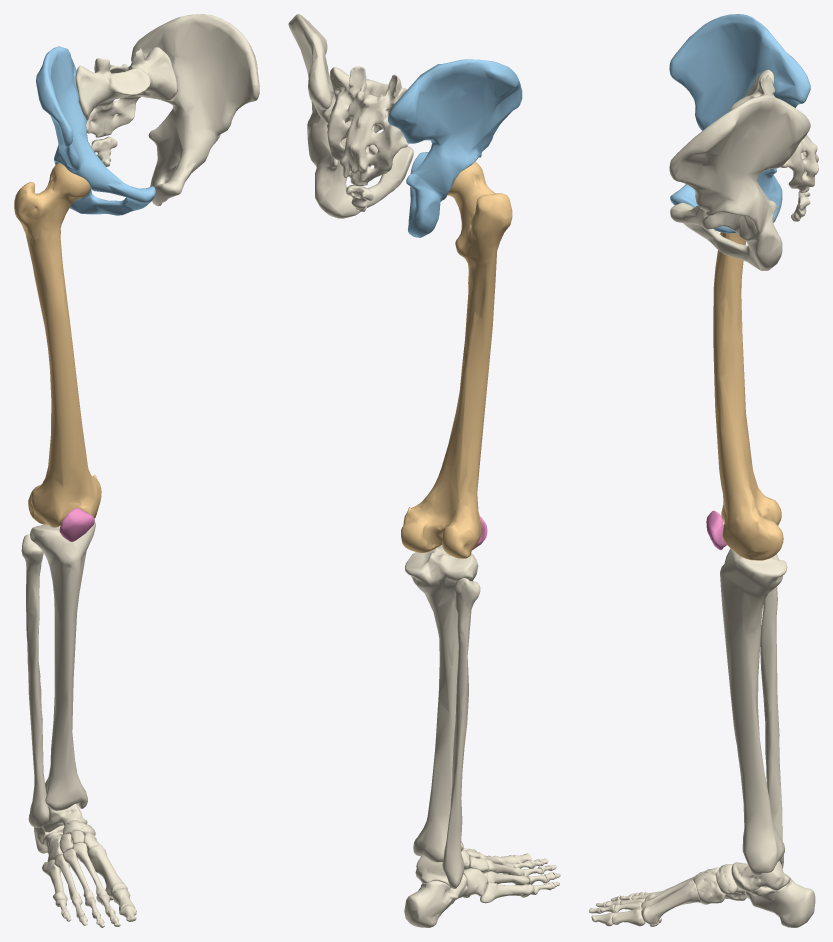
The model's file is hip-preview.glb.
3 views of the same model, side by side, from view 1: azimuth 30°, elevation 25°; view 2: azimuth 150°, elevation 25°; view 3: azimuth 270°, elevation 25° (orthographic). The views are drawn at different scales.
Parts seen in each view (by area): view 1: Femur.r-hip-preview, Hip bone.l-hip-preview, Tibia.r-hip-preview, Hip bone.r-hip-preview, Sacrum-hip-preview, Fibula.r-hip-preview, First metatarsal bone.r-hip-preview, Patella.r-hip-preview, Talus.r-hip-preview, Second metatarsal bone.r-hip-preview; view 2: Femur.r-hip-preview, Hip bone.r-hip-preview, Tibia.r-hip-preview, Sacrum-hip-preview, Hip bone.l-hip-preview, Fibula.r-hip-preview, Calcaneus.r-hip-preview, Fifth metatarsal bone.r-hip-preview, Talus.r-hip-preview; view 3: Hip bone.l-hip-preview, Femur.r-hip-preview, Tibia.r-hip-preview, Hip bone.r-hip-preview, Fibula.r-hip-preview, Calcaneus.r-hip-preview, Sacrum-hip-preview, Talus.r-hip-preview, First metatarsal bone.r-hip-preview, Medial cuneiform bone.r-hip-preview, Patella.r-hip-preview.
Boxes of the visible parts, box(x1,y1,x2,y2) form: Femur.r-hip-preview: box(14, 163, 101, 527); Hip bone.l-hip-preview: box(131, 14, 259, 206); Tibia.r-hip-preview: box(30, 522, 95, 810); Hip bone.r-hip-preview: box(36, 46, 155, 215); Sacrum-hip-preview: box(75, 47, 177, 137); Fibula.r-hip-preview: box(21, 534, 49, 827); First metatarsal bone.r-hip-preview: box(88, 844, 127, 896); Patella.r-hip-preview: box(59, 508, 94, 541); Talus.r-hip-preview: box(42, 803, 87, 832); Second metatarsal bone.r-hip-preview: box(72, 842, 107, 902); Femur.r-hip-preview: box(401, 161, 512, 558); Hip bone.r-hip-preview: box(388, 59, 522, 237); Tibia.r-hip-preview: box(405, 546, 478, 862); Sacrum-hip-preview: box(326, 66, 408, 185); Hip bone.l-hip-preview: box(288, 14, 413, 218); Fibula.r-hip-preview: box(442, 578, 480, 888); Calcaneus.r-hip-preview: box(404, 874, 467, 927); Fifth metatarsal bone.r-hip-preview: box(480, 882, 534, 903); Talus.r-hip-preview: box(415, 855, 451, 887); Hip bone.l-hip-preview: box(669, 94, 810, 270); Femur.r-hip-preview: box(713, 232, 783, 560); Tibia.r-hip-preview: box(720, 549, 787, 875); Hip bone.r-hip-preview: box(669, 14, 810, 233); Fibula.r-hip-preview: box(760, 554, 783, 868); Calcaneus.r-hip-preview: box(745, 876, 815, 927); Sacrum-hip-preview: box(729, 69, 818, 193); Talus.r-hip-preview: box(732, 861, 790, 892); First metatarsal bone.r-hip-preview: box(641, 880, 700, 924); Medial cuneiform bone.r-hip-preview: box(693, 872, 725, 904); Patella.r-hip-preview: box(706, 510, 726, 550).
Size of the model in its own units: 0.2834 by 1 by 0.2323.
